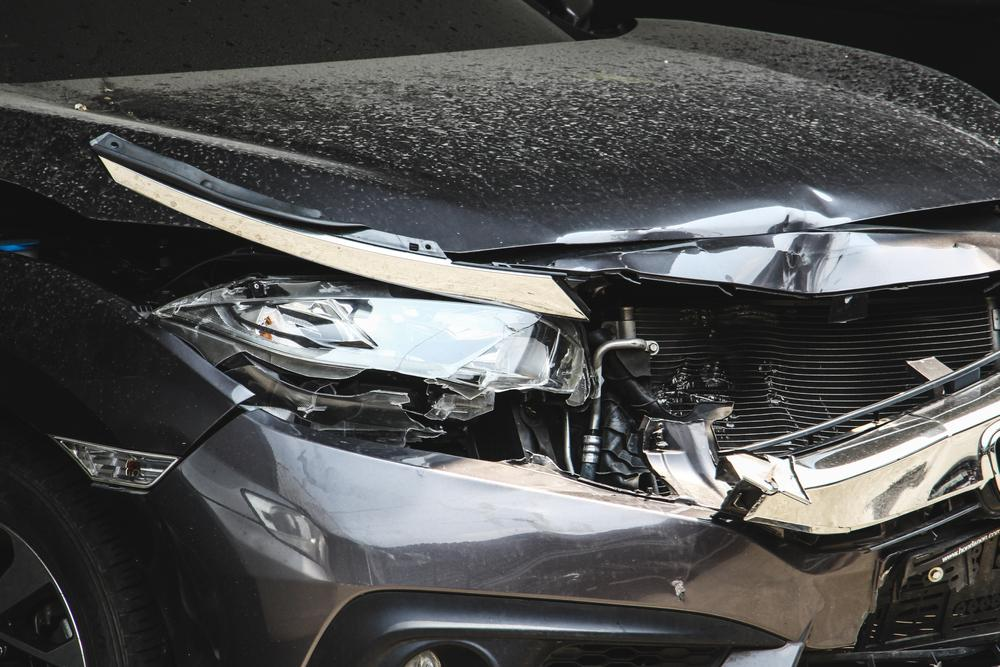dent: (556, 181, 856, 244), (614, 232, 853, 295)
lamp broken: (149, 271, 589, 467)
